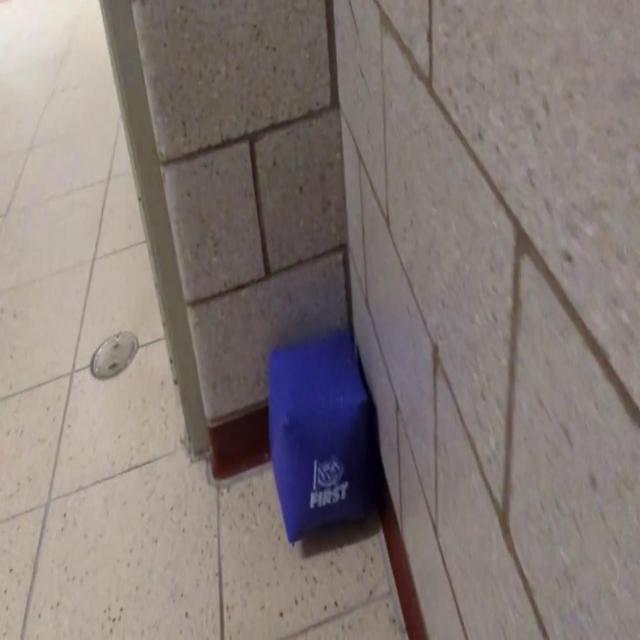frc_cube: (268, 335, 375, 544)
